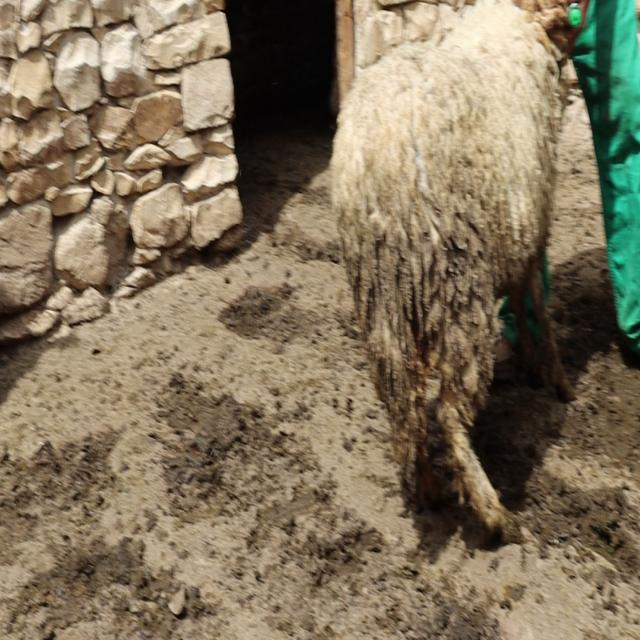Score_2: (330, 0, 575, 542)
